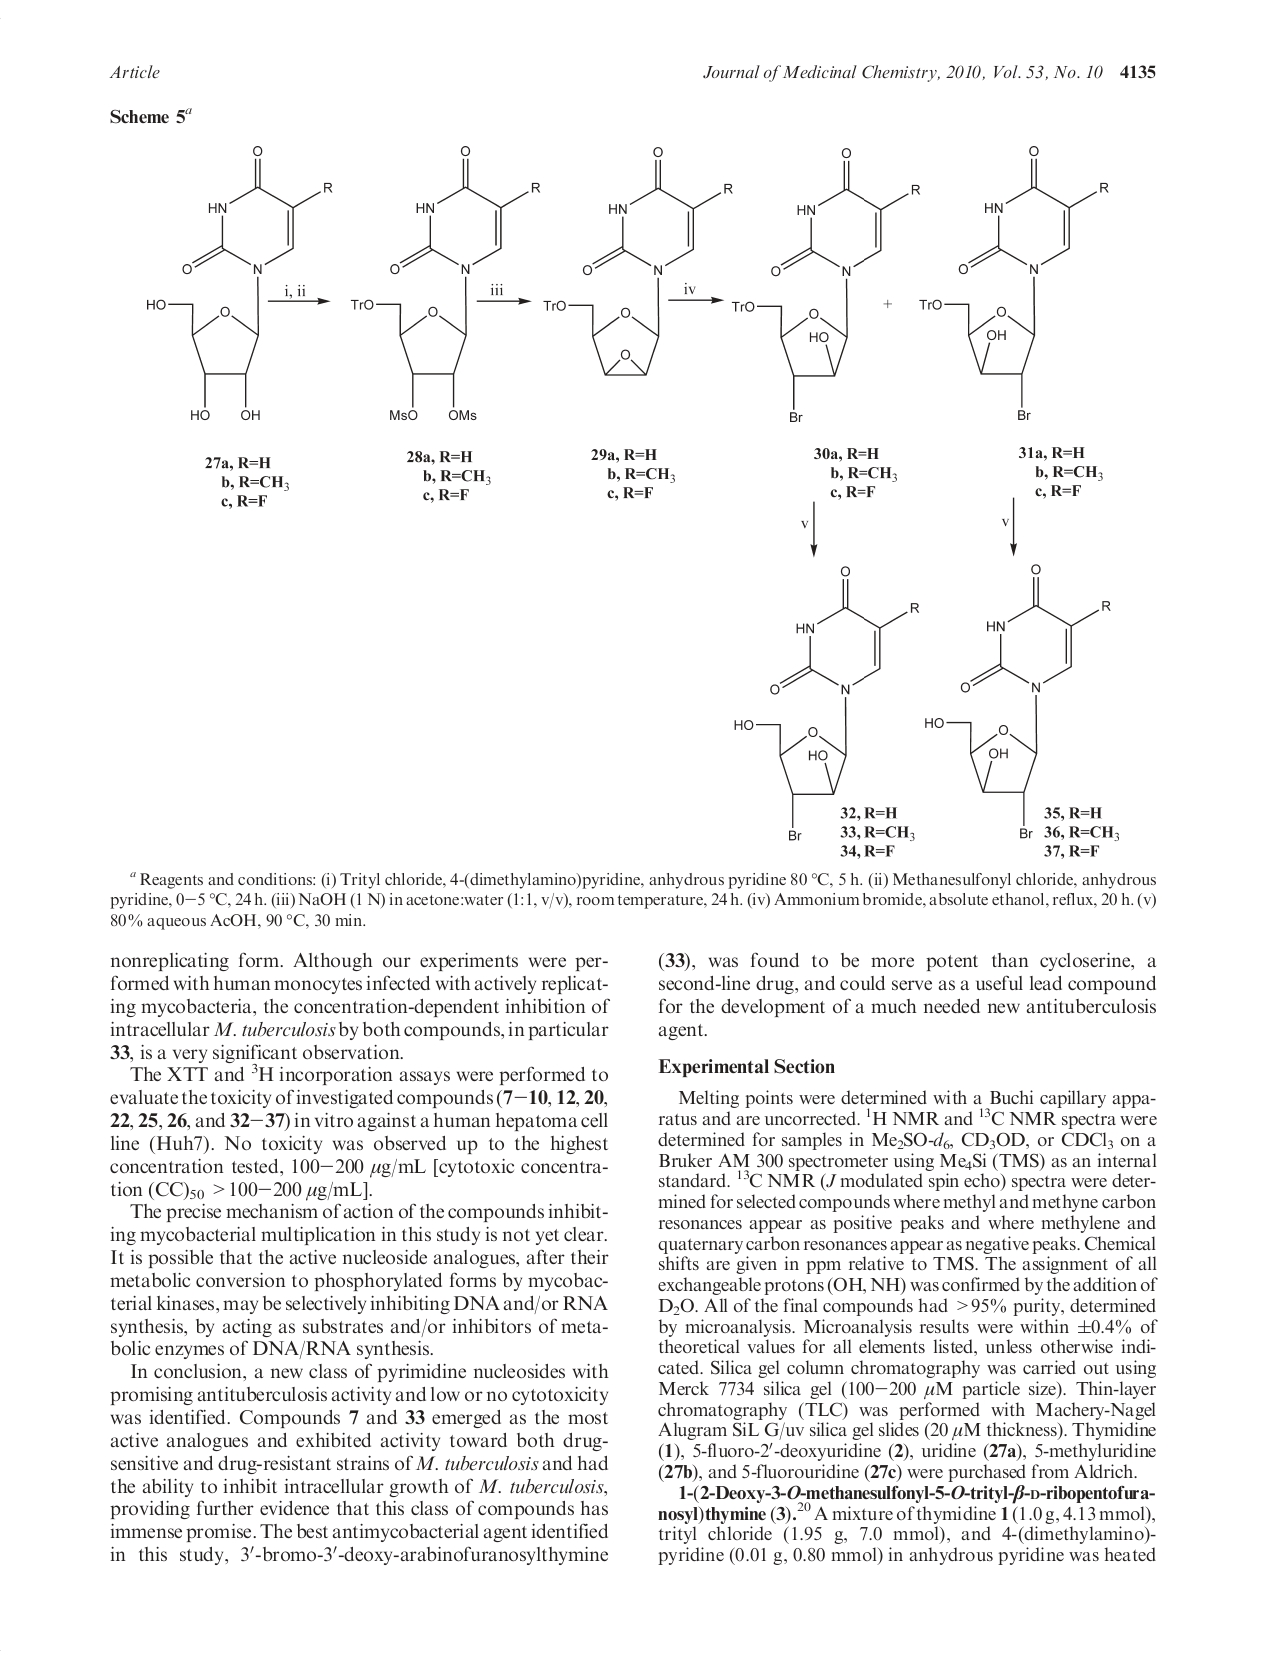exist_molecular: (346, 136, 555, 442), (140, 134, 340, 443), (911, 129, 1118, 426), (725, 564, 927, 846), (922, 551, 1116, 843), (730, 140, 932, 395), (537, 144, 739, 395)
